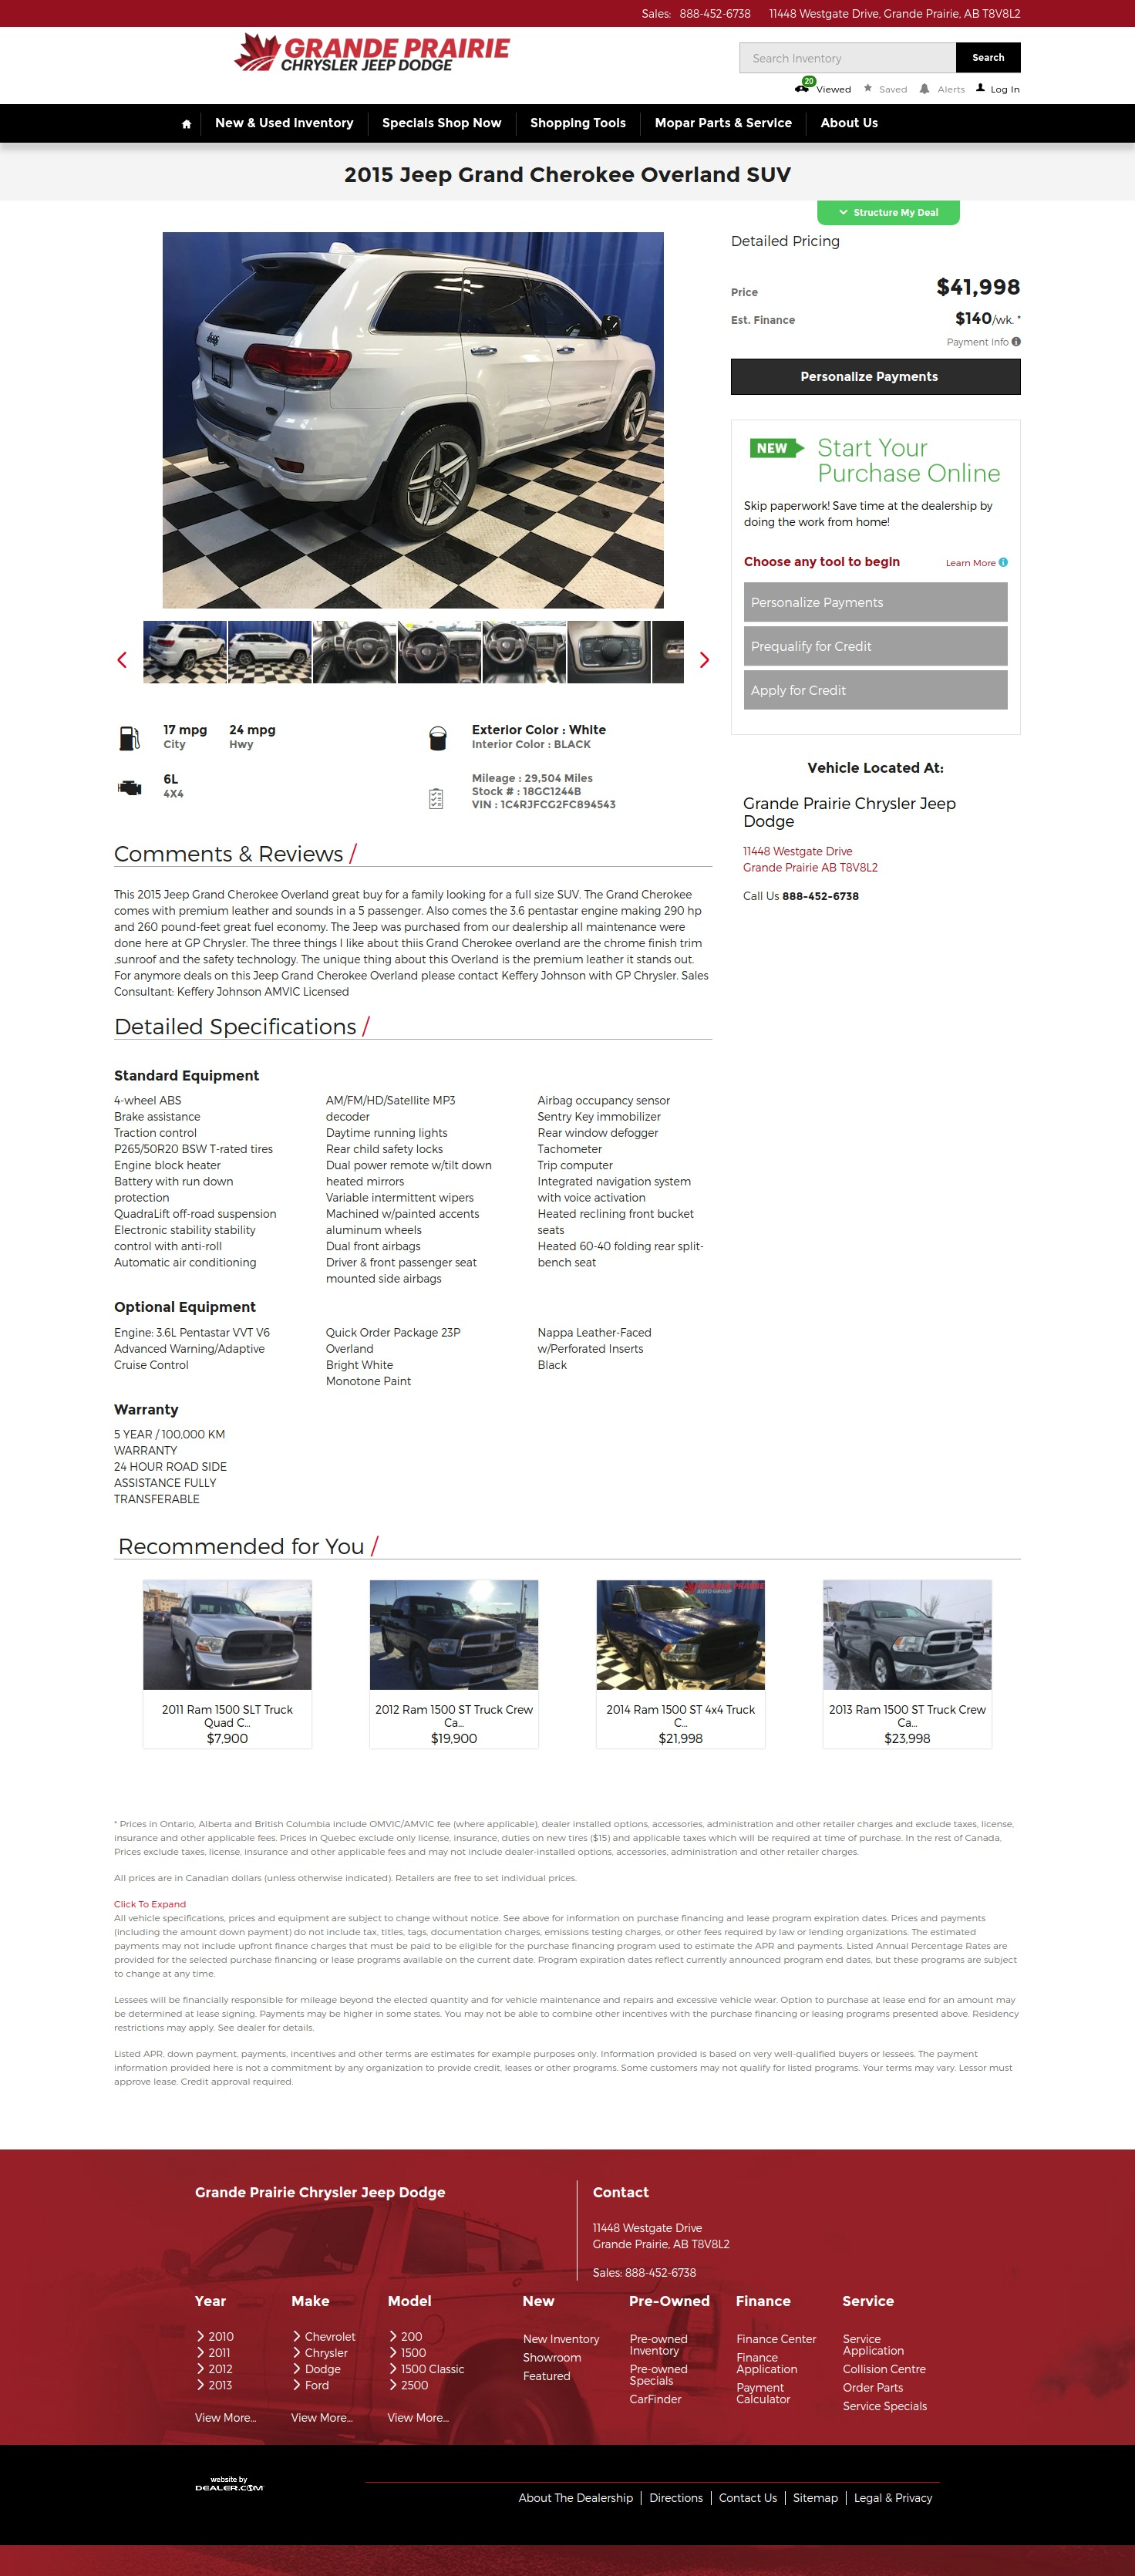car: (700, 652, 710, 669)
